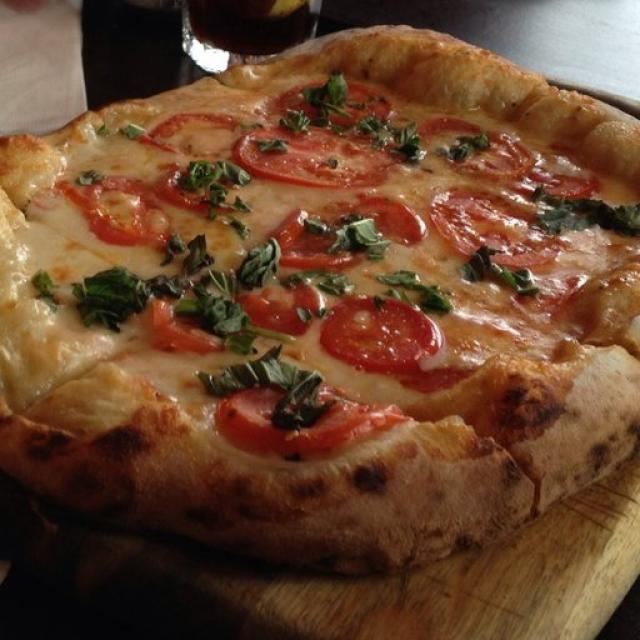Basil: (533, 172, 640, 242), (57, 260, 159, 328), (454, 250, 558, 295), (199, 359, 330, 391), (371, 270, 450, 312), (154, 228, 213, 276), (363, 120, 425, 160), (274, 378, 341, 414), (440, 136, 497, 171), (196, 159, 245, 198), (234, 246, 280, 286), (303, 86, 349, 122), (101, 122, 168, 146), (32, 264, 64, 306), (254, 130, 297, 160), (230, 214, 253, 242)
Pizza: (0, 26, 640, 570)
Tomato: (418, 185, 579, 274), (189, 390, 385, 444), (238, 118, 384, 188), (314, 302, 457, 361), (61, 176, 180, 244), (424, 116, 536, 181), (274, 79, 399, 133), (322, 194, 438, 248), (267, 206, 368, 262), (230, 272, 320, 334), (146, 296, 234, 354), (163, 166, 251, 224), (141, 121, 247, 157), (508, 174, 608, 199)
